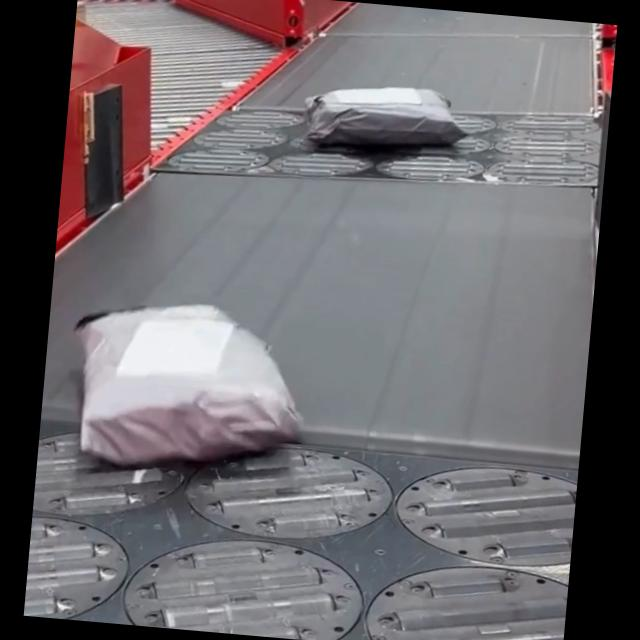mailer: (66, 295, 308, 478), (298, 77, 458, 156)
